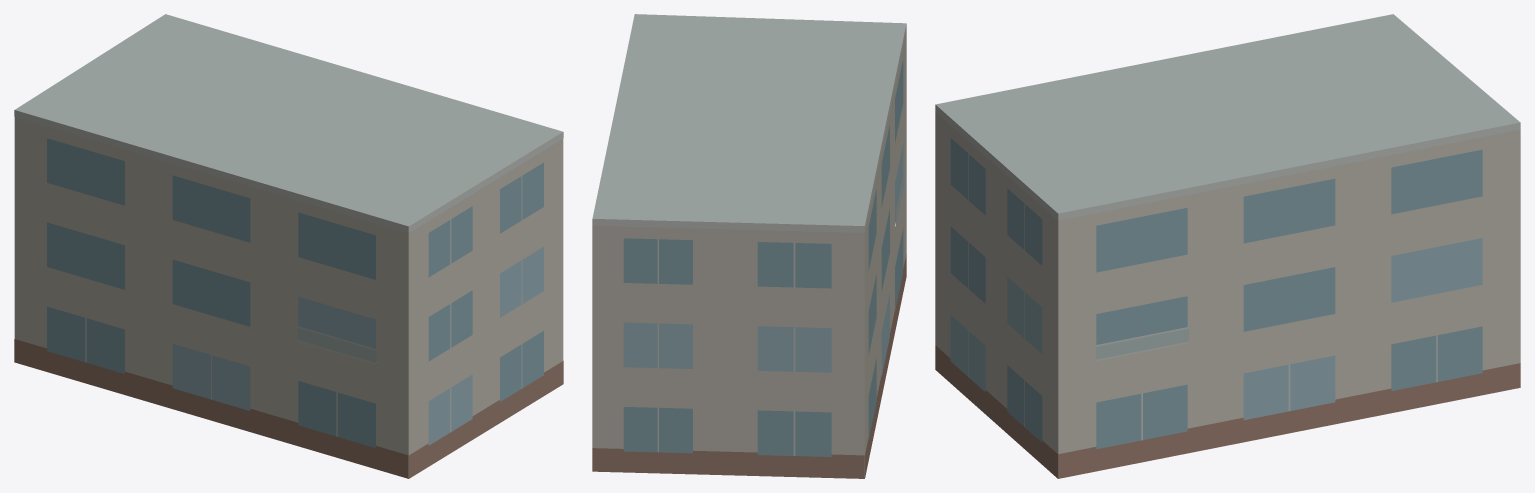
File: survey-upis-32708297.glb
The picture shows the model from 3 angles, left to right: view 1: azimuth 30°, elevation 25°; view 2: azimuth 150°, elevation 25°; view 3: azimuth 270°, elevation 25°; orthographic projection. The views are drawn at different scales.
Parts seen in each view (by area): view 1: survey-upis-32708297.tmp; view 2: survey-upis-32708297.tmp; view 3: survey-upis-32708297.tmp.
Part boxes in pixels (x1,y1,x2,y2): survey-upis-32708297.tmp: (14, 14, 563, 478); survey-upis-32708297.tmp: (592, 14, 906, 478); survey-upis-32708297.tmp: (935, 14, 1520, 478).
Bounding box in the file's own units: 14.78 × 9.15 × 18.31.
